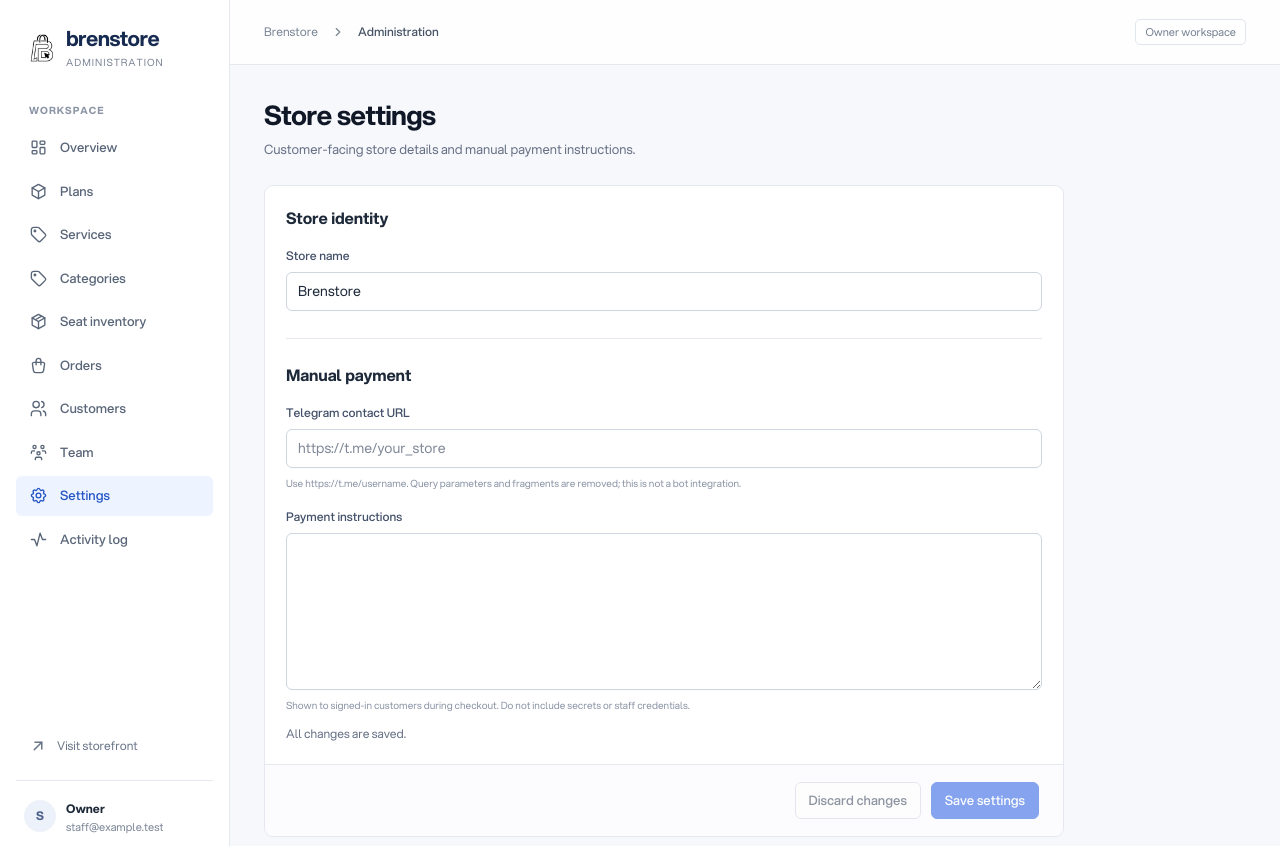
Test: server-aligned settings and input boundaries › rejects an unsupported customer contact link before saving: https://telegram.me/store
This screenshot has width=1280, height=846.
Type "https://telegram.me/store" into the field labelled "Telegram contact URL" at (664, 448), box top-left (286, 429), bottom-right (1042, 468)
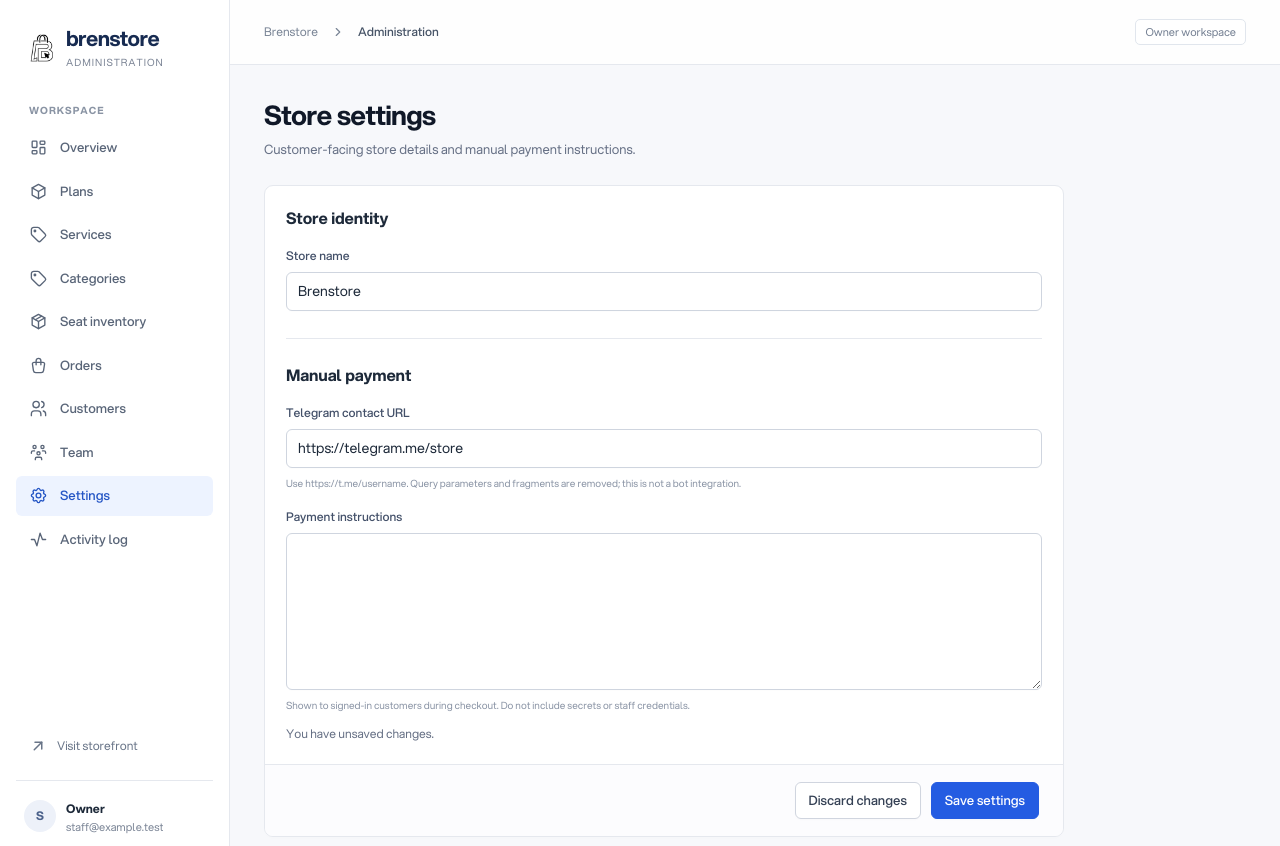
Click the button "Save settings" at (985, 801), box top-left (931, 782), bottom-right (1039, 819)
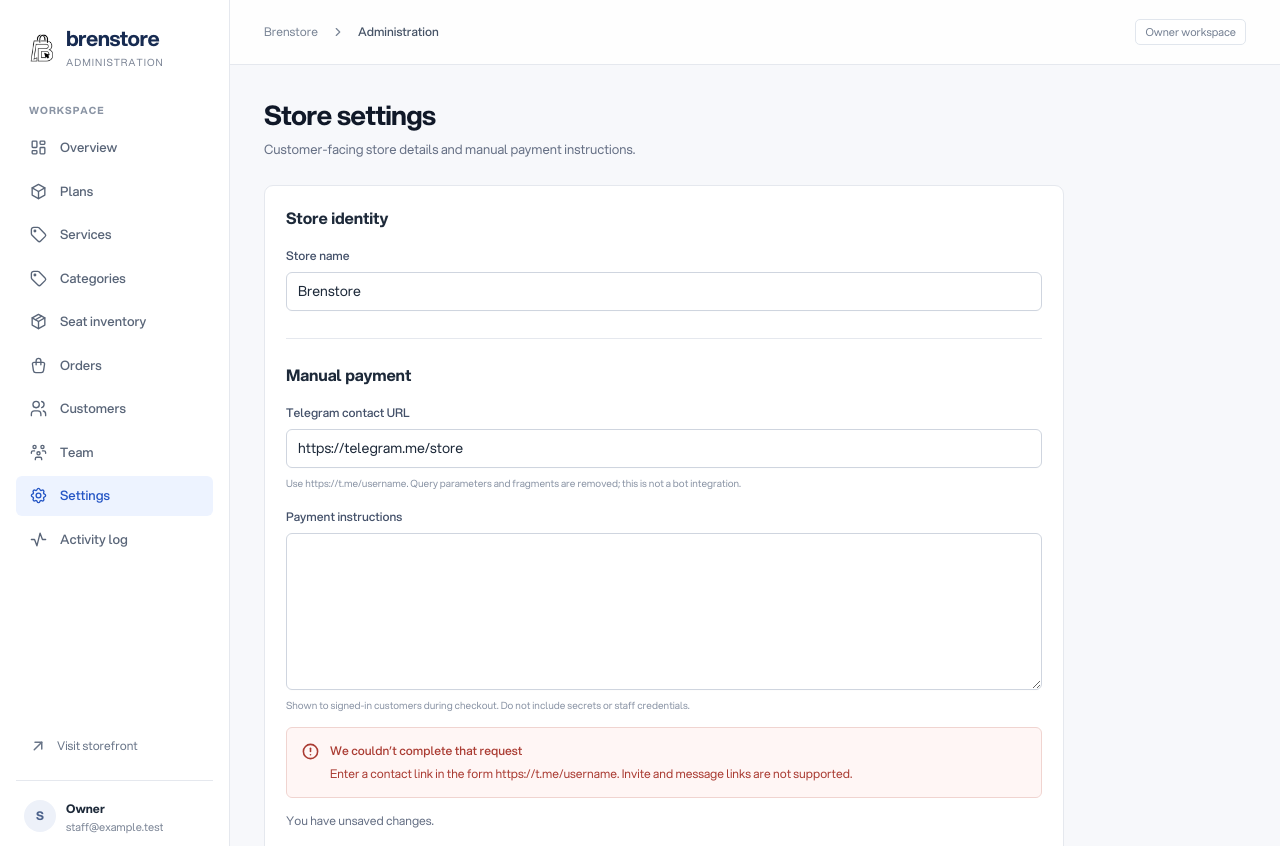
Expected: the message shows "https://t.me/username", top-left (330, 765), bottom-right (852, 782)
